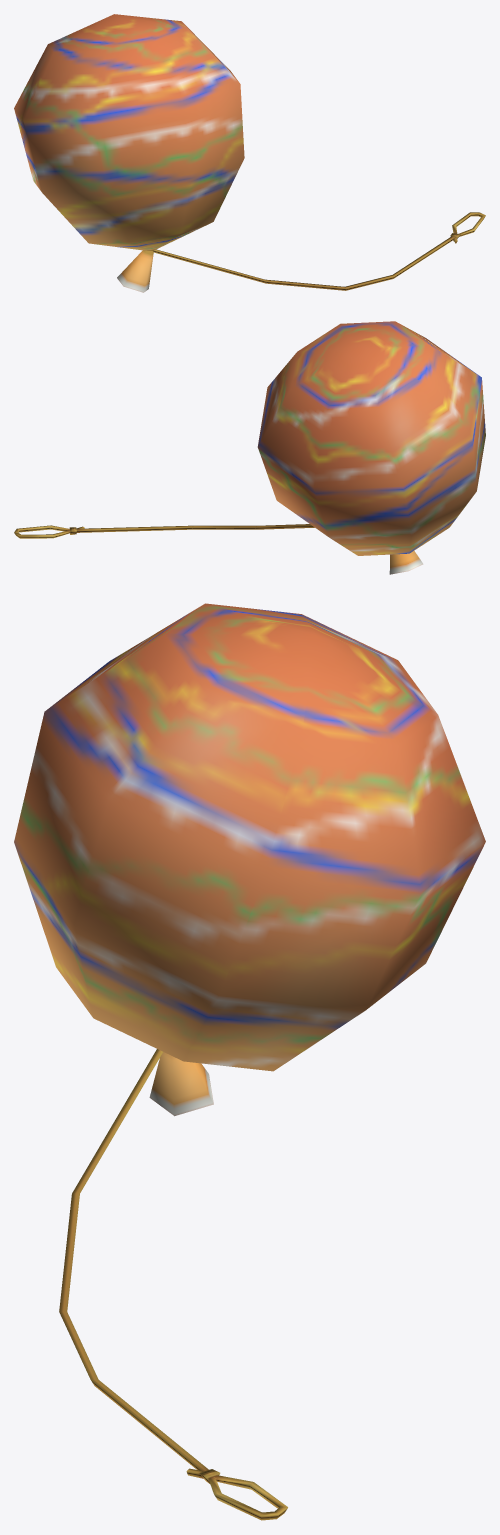
The model's file is jsf_WaterBalloon_11_b.fbx.
The picture shows the model from 3 angles, top to bottom: view 1: azimuth 30°, elevation 25°; view 2: azimuth 150°, elevation 25°; view 3: azimuth 270°, elevation 25°; orthographic projection. The views are drawn at different scales.
Visible parts, largest first — view 1: jsf_WaterBalloon_11_b; view 2: jsf_WaterBalloon_11_b; view 3: jsf_WaterBalloon_11_b.
Boxes of the visible parts, <box> form: jsf_WaterBalloon_11_b: <box>14,14,485,292</box>; jsf_WaterBalloon_11_b: <box>14,321,485,574</box>; jsf_WaterBalloon_11_b: <box>14,603,485,1520</box>.
Bounding box in the file's own units: 24.35 × 14.34 × 11.11.
